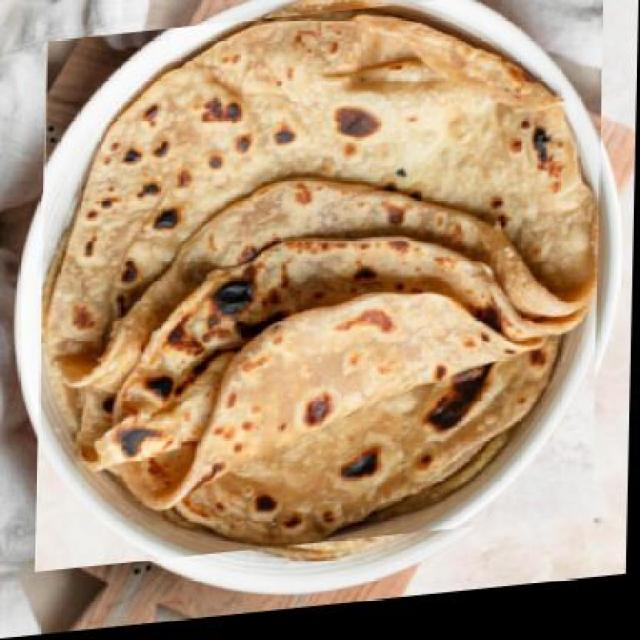chapati: (45, 0, 600, 582)
